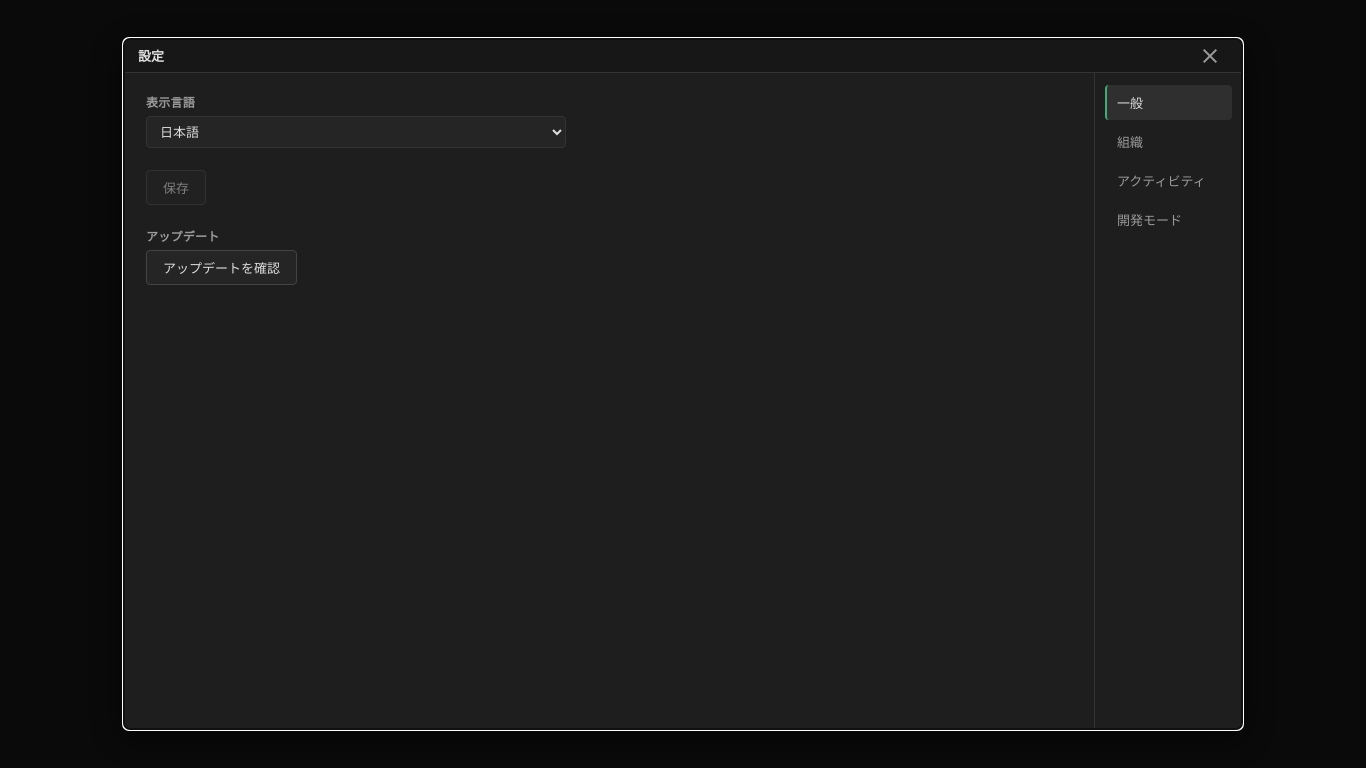
Test: SettingsModal General tab › runs the check and shows the newer version when one is available
The width and height of the screenshot is (1366, 768).
Step 1. Click the button "アップデートを確認" → [222, 268], box [146,250,297,285]
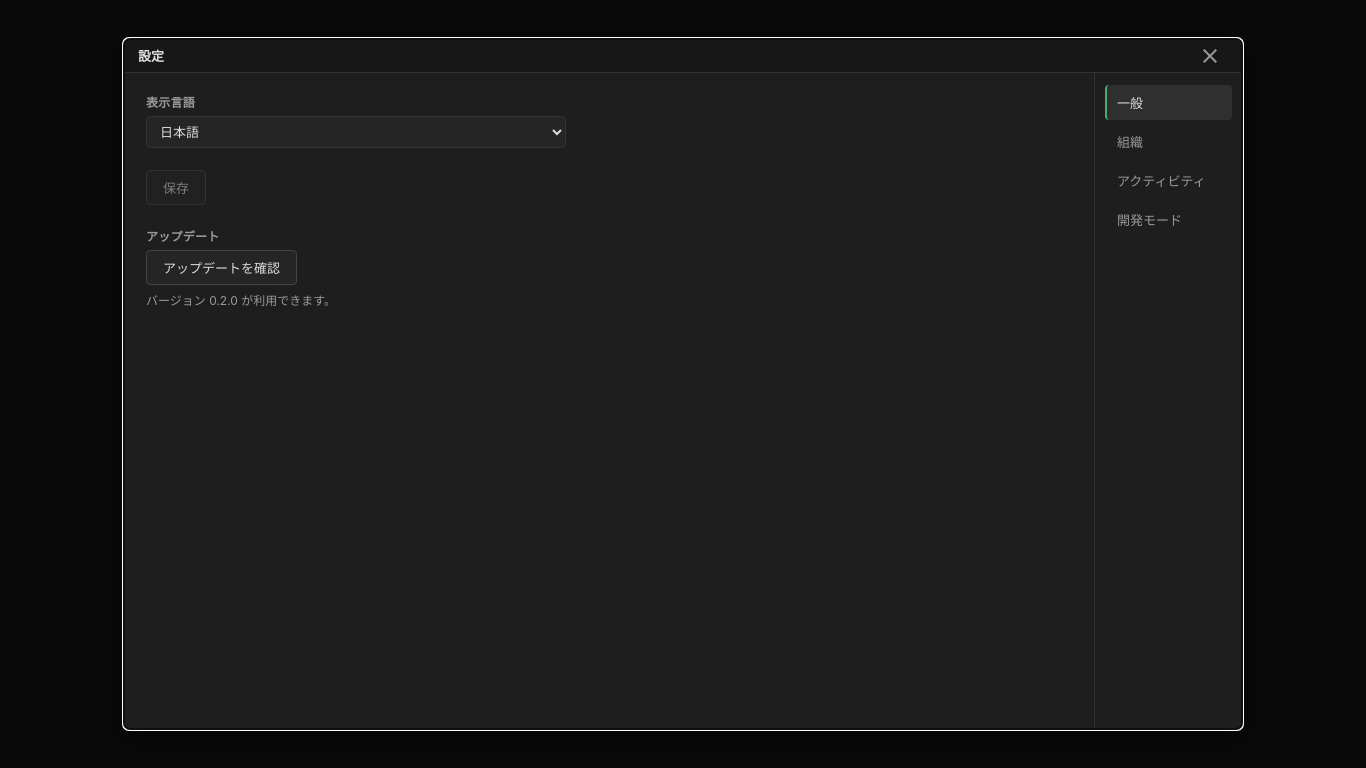
Expected: the text "バージョン 0.2.0 が利用できます。" is shown, [146,293,336,308]
